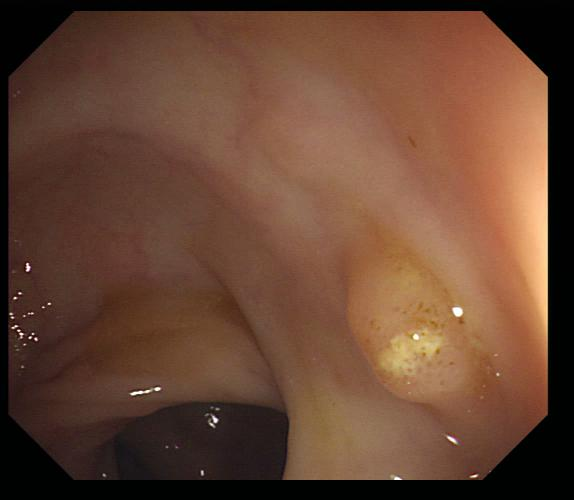polyp: (339, 245, 474, 407)
